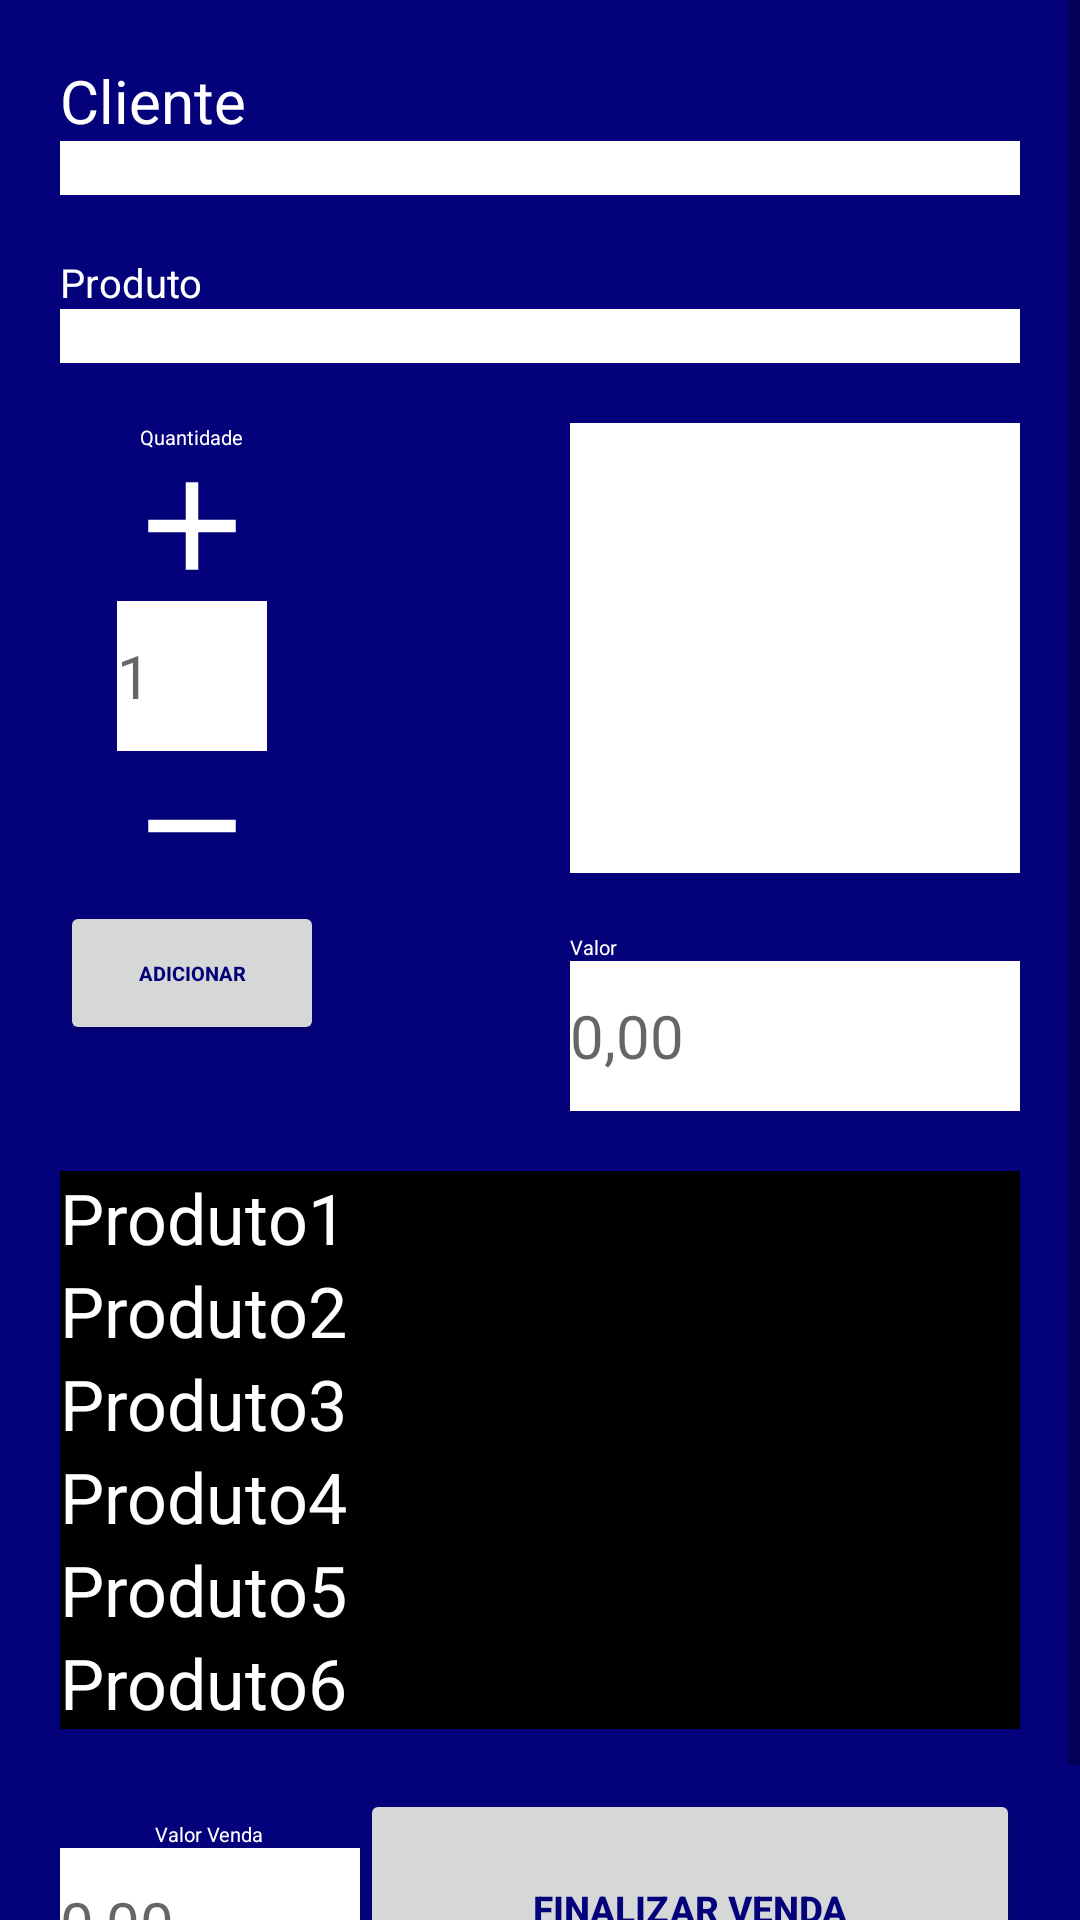

Icon bounding boxes for this 1080 × 1920 phone screenshot, format bbox=(x1, y1, x2, y2):
adicionar: bbox=(148, 482, 236, 570)
